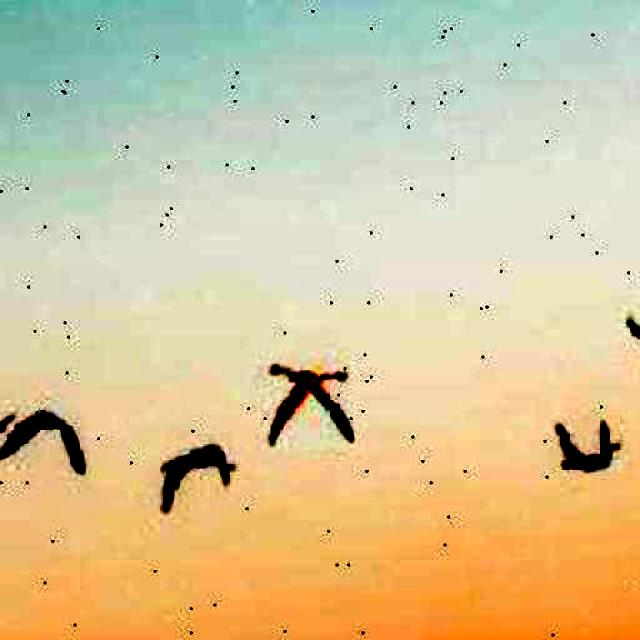airplane: (262, 356, 352, 452), (0, 405, 85, 481), (155, 440, 238, 514), (552, 415, 622, 475), (0, 378, 19, 468)
